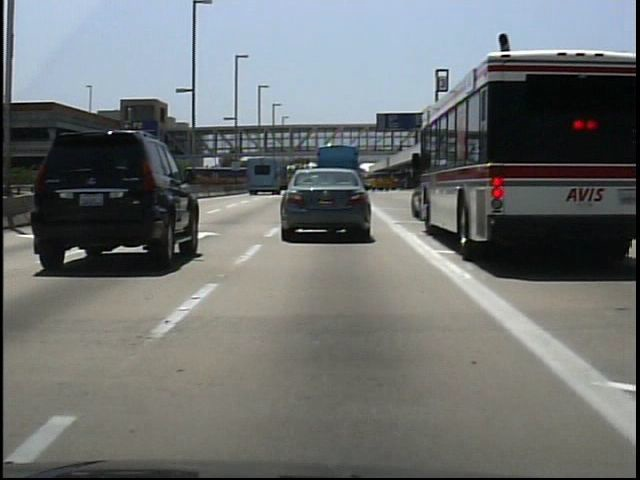person: (395, 135, 408, 157), (370, 137, 384, 157)
